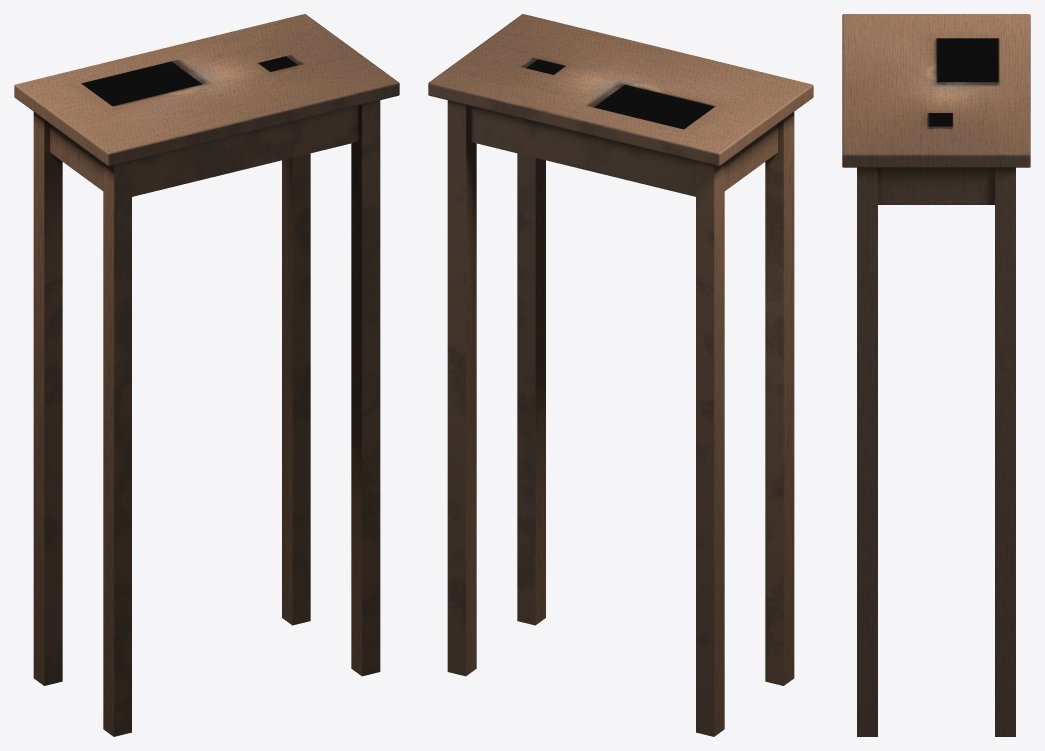
Rendered from 409_hook.glb.
The picture shows the model from 3 angles, left to right: view 1: azimuth 30°, elevation 25°; view 2: azimuth 150°, elevation 25°; view 3: azimuth 270°, elevation 25°; orthographic projection.
Visible parts, largest first — view 1: Table; view 2: Table; view 3: Table.
Boxes of the visible parts, x1=… form: Table: x1=14, y1=14, x2=399, y2=736; Table: x1=428, y1=14, x2=813, y2=736; Table: x1=842, y1=14, x2=1030, y2=736.
Size of what is drawn, in the model's own units: 1.6 by 3.1 by 0.9.
Materials: 1 (1 with a texture image).
